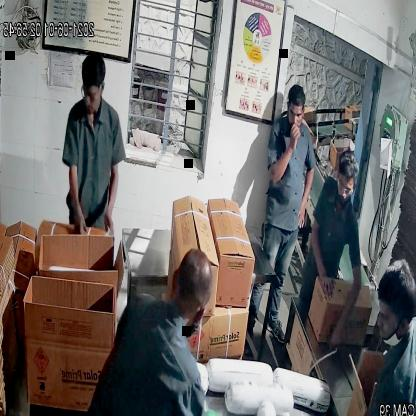goggles: (335, 170, 358, 201)
